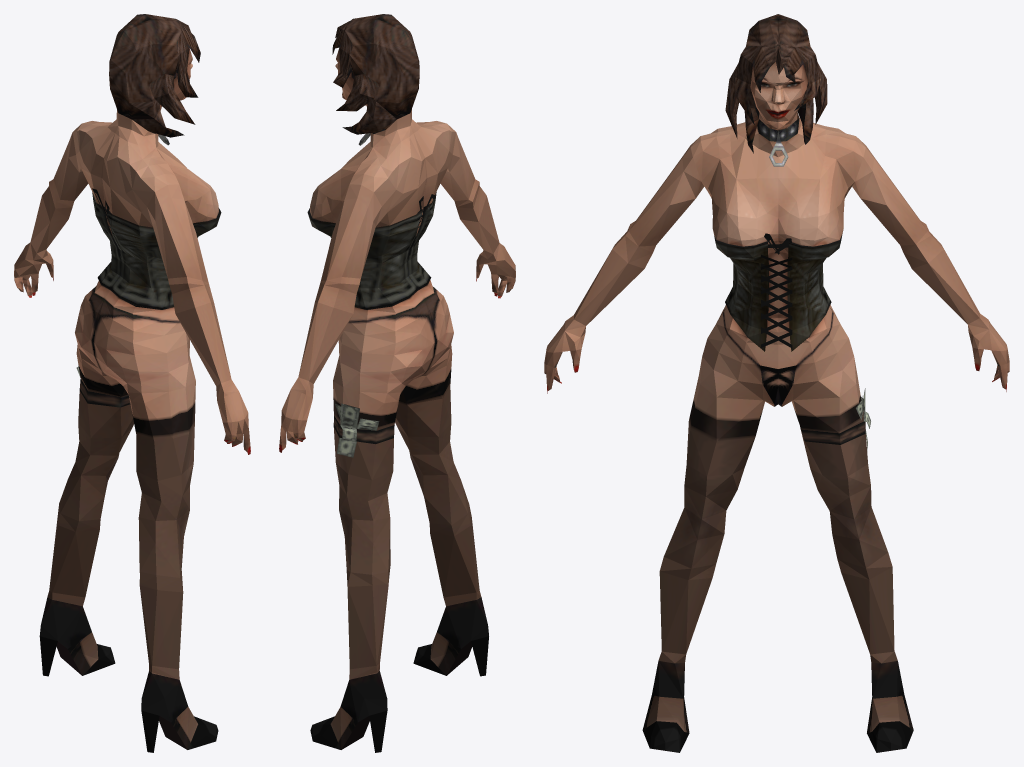
File: swfystr.obj
3 views of the same model, side by side, from view 1: azimuth 30°, elevation 25°; view 2: azimuth 150°, elevation 25°; view 3: azimuth 270°, elevation 25° (orthographic). The views are drawn at different scales.
Parts seen in each view (by area): view 1: _Pelvis; view 2: _Pelvis; view 3: _Pelvis.
Boxes of the visible parts, <box> form: _Pelvis: <box>14,14,250,752</box>; _Pelvis: <box>279,14,515,752</box>; _Pelvis: <box>544,14,1009,752</box>.
Size of the model in its own units: 0.3049 by 1.79 by 1.04.
1 material, 1 textured.
